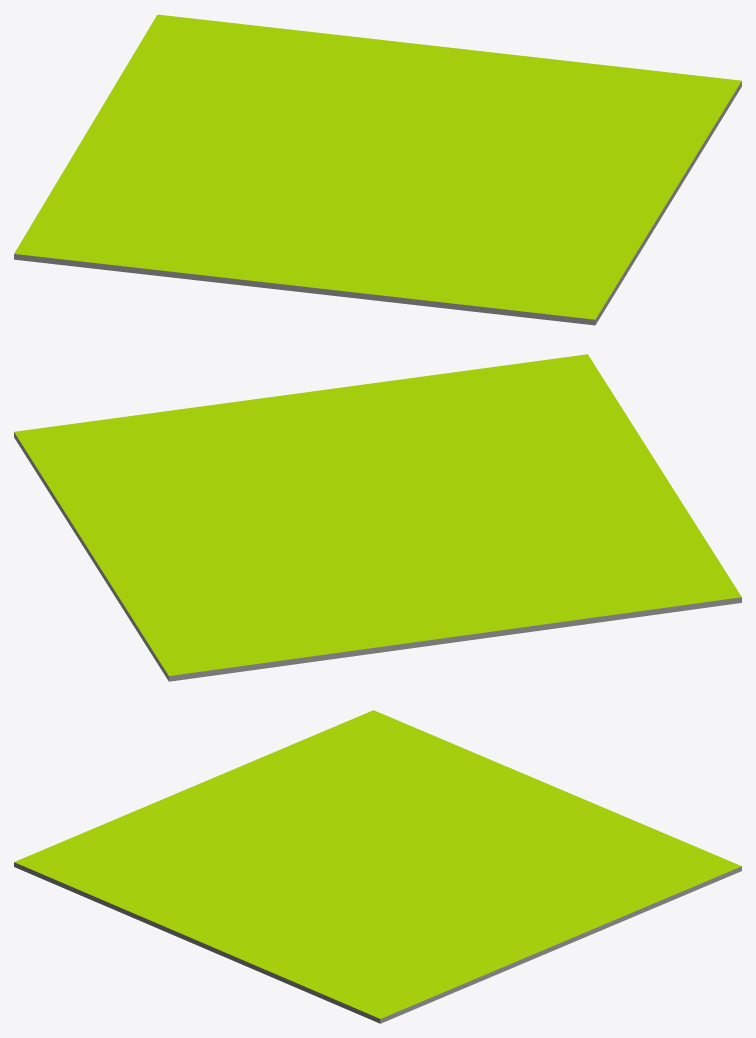
File: fbx_PlaqueDeSol_v1.0.fbx
3 views of the same model, one above another, from view 1: azimuth 30°, elevation 25°; view 2: azimuth 150°, elevation 25°; view 3: azimuth 270°, elevation 25° (orthographic). The views are drawn at different scales.
Parts seen in each view (by area): view 1: polySurface2819; view 2: polySurface2819; view 3: polySurface2819.
Boxes of the visible parts, x1,y1,x2,y2 form: polySurface2819: [14, 14, 741, 325]; polySurface2819: [14, 354, 741, 681]; polySurface2819: [14, 710, 741, 1023].
Size of the model in its own units: 267 by 5.32 by 273.
